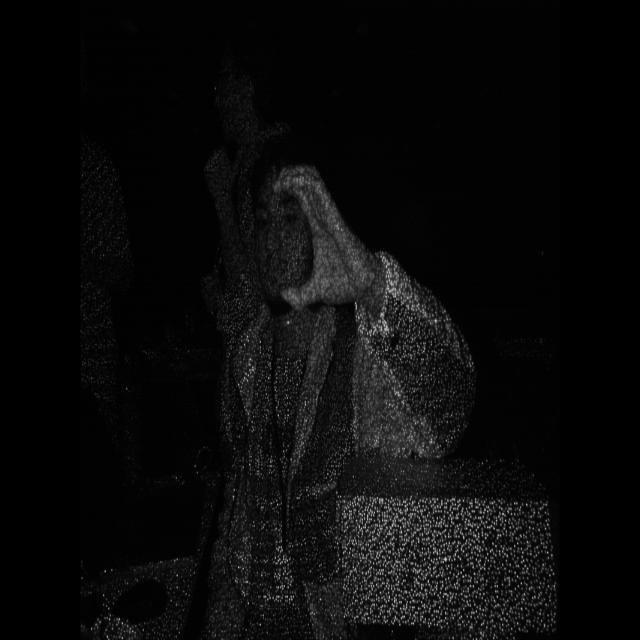C: (260, 154, 387, 345)
